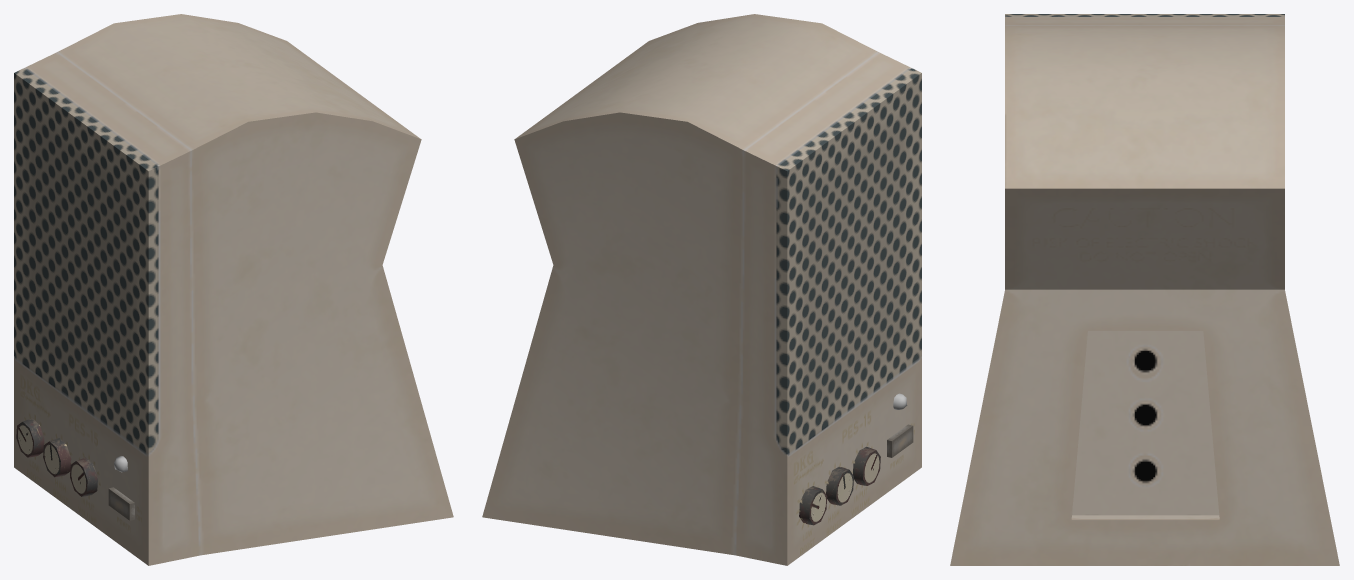
File: SM_Computer_01d.fbx
3 views of the same model, side by side, from view 1: azimuth 30°, elevation 25°; view 2: azimuth 150°, elevation 25°; view 3: azimuth 270°, elevation 25° (orthographic). The views are drawn at different scales.
Parts seen in each view (by area): view 1: SM_Computer_01d_LOD0; view 2: SM_Computer_01d_LOD0; view 3: SM_Computer_01d_LOD0.
Part boxes in pixels (bbox=[...]): SM_Computer_01d_LOD0: bbox=[14, 14, 453, 565]; SM_Computer_01d_LOD0: bbox=[482, 14, 921, 565]; SM_Computer_01d_LOD0: bbox=[950, 14, 1339, 565].
Size of the model in its own units: 11.79 by 13.26 by 16.39.
